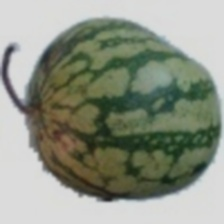watermelon: (8, 3, 179, 196)
